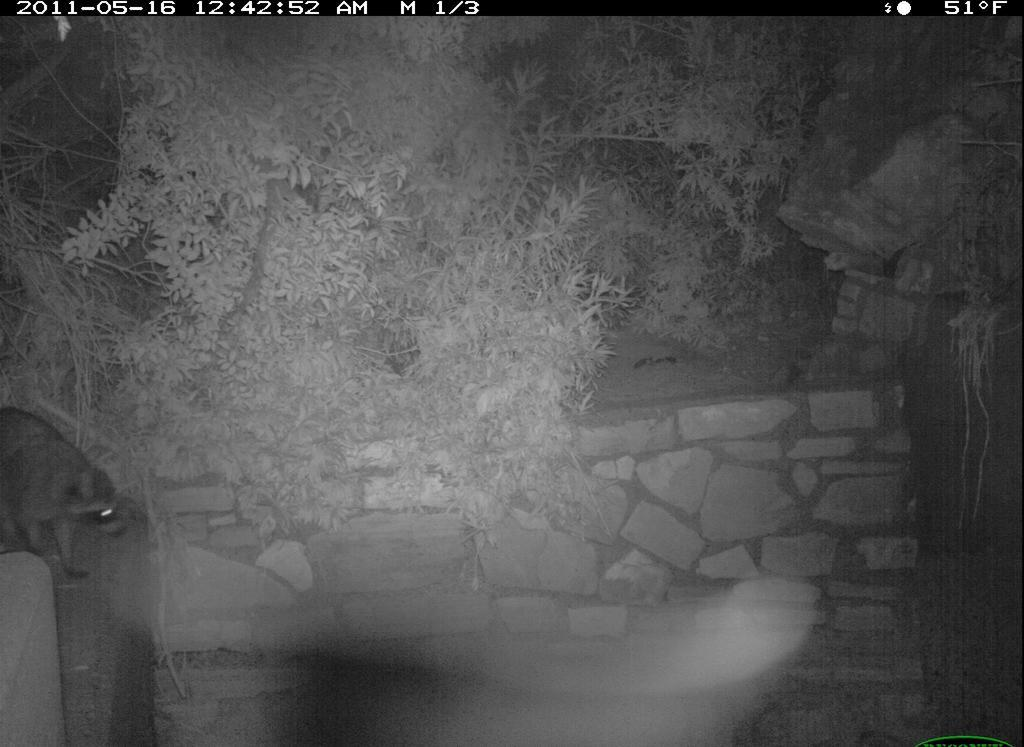raccoon: (1, 406, 136, 588)
